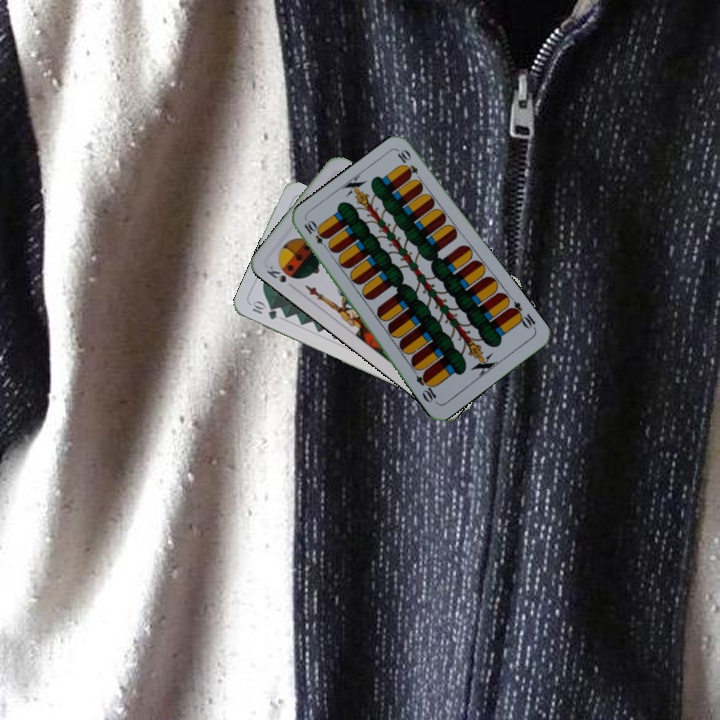E10: (505, 297, 539, 332), (300, 217, 332, 253)
G10: (247, 298, 280, 322)
SK: (262, 261, 298, 292)
